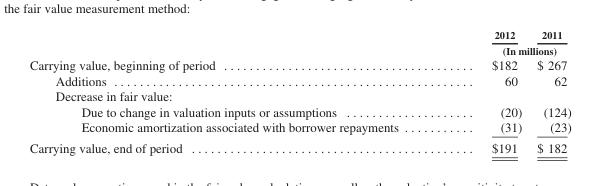table: (28, 28, 570, 154)
table column: (28, 28, 444, 154), (444, 28, 528, 154), (528, 28, 570, 154)
table column header: (28, 28, 570, 56)
table projected row header: (28, 88, 570, 103)
table row: (28, 119, 570, 137), (28, 137, 570, 154), (28, 56, 570, 72), (28, 72, 570, 88), (28, 103, 570, 119), (28, 88, 570, 103), (28, 28, 570, 42), (28, 42, 570, 56)
table spanning cell: (444, 42, 570, 56)
